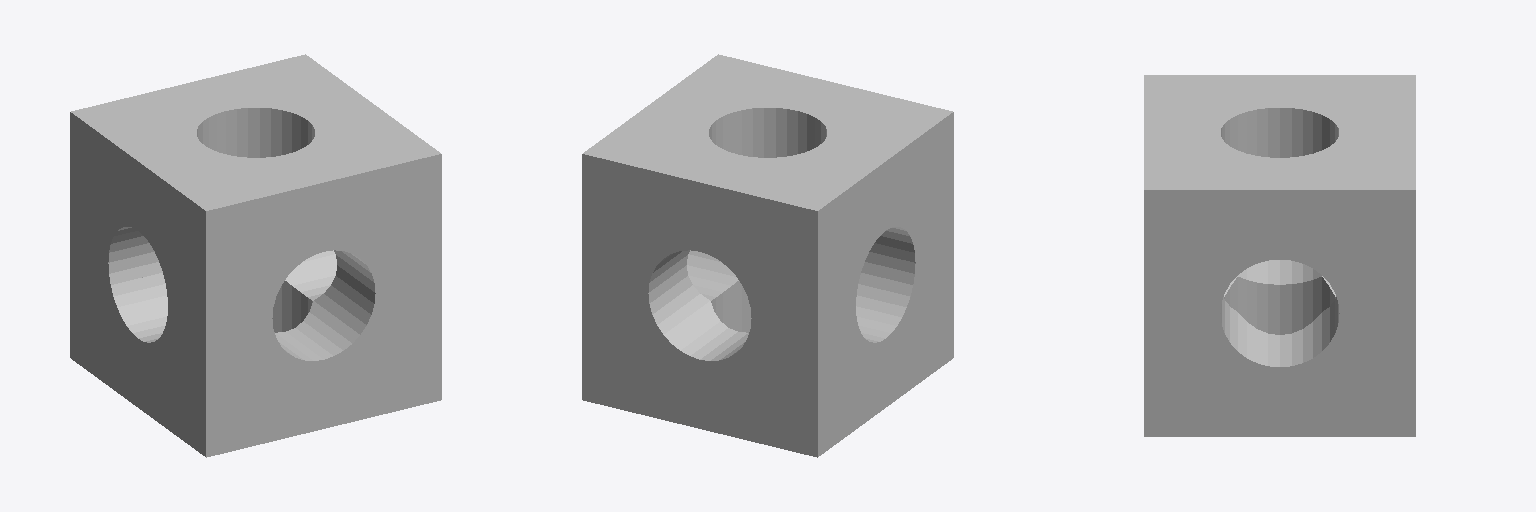
The model's file is Holzwuerfel5.obj.
3 views of the same model, side by side, from view 1: azimuth 30°, elevation 25°; view 2: azimuth 150°, elevation 25°; view 3: azimuth 270°, elevation 25° (orthographic).
Parts seen in each view (by area): view 1: Holzwürfel.005_Cube.031; view 2: Holzwürfel.005_Cube.031; view 3: Holzwürfel.005_Cube.031.
Boxes of the visible parts, box(x1,y1,x2,y2) form: Holzwürfel.005_Cube.031: box(70, 54, 441, 457); Holzwürfel.005_Cube.031: box(582, 54, 953, 457); Holzwürfel.005_Cube.031: box(1144, 75, 1415, 436).
Bounding box in the file's own units: 0.5332 × 0.5332 × 0.5332.